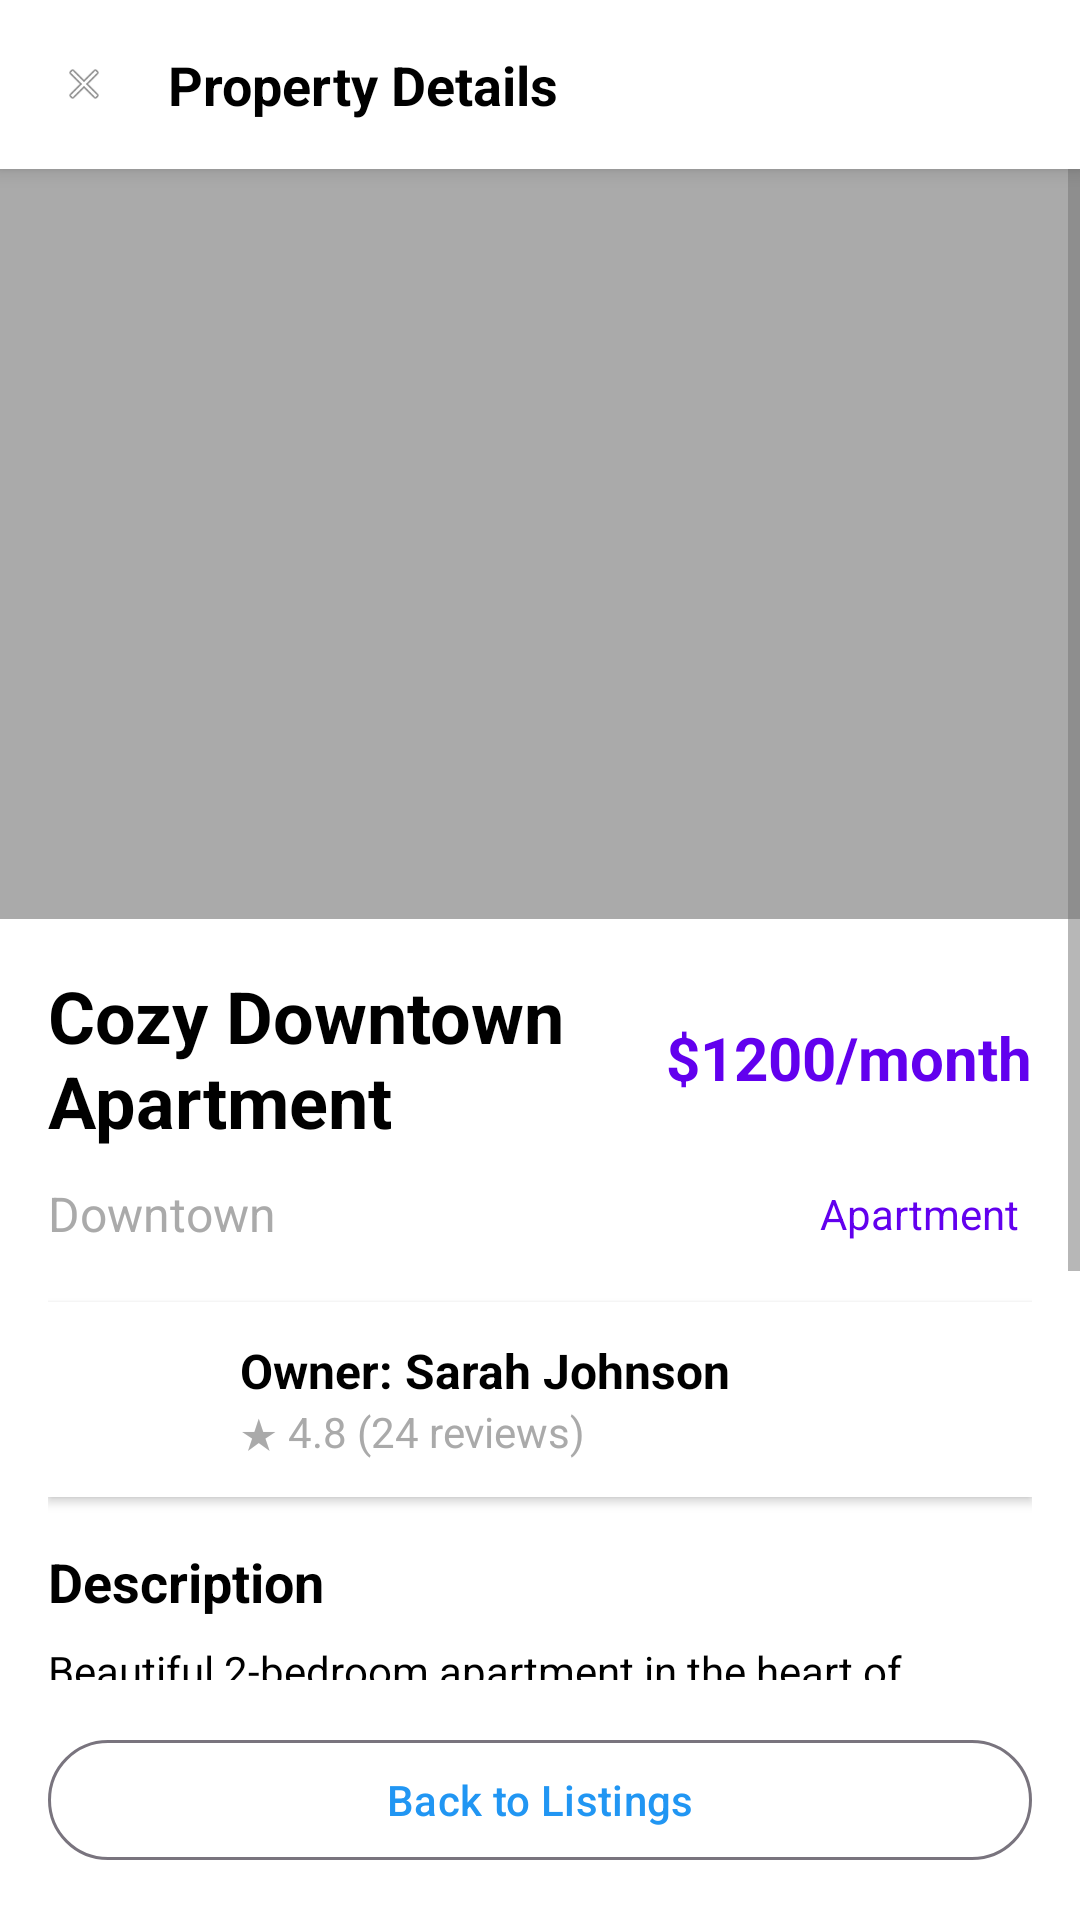

Point at icon controls on the screen. Image size 1080x1920, points as (x,y).
close clear cancel: (84,84)
